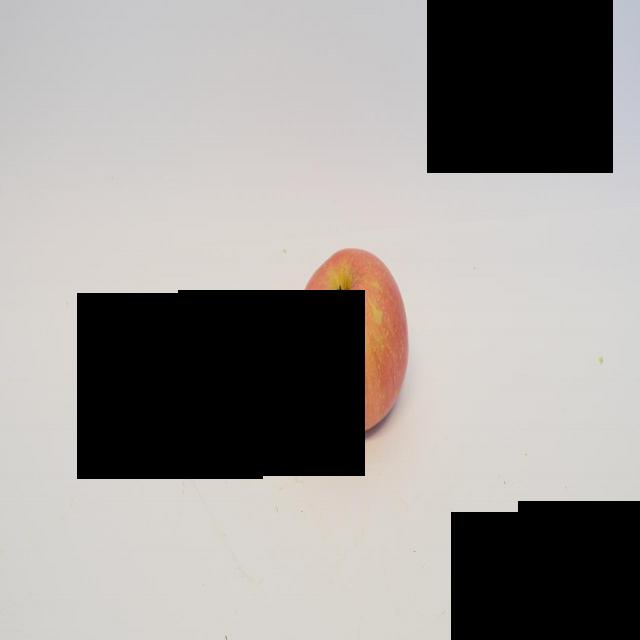apple: (294, 242, 414, 444)
